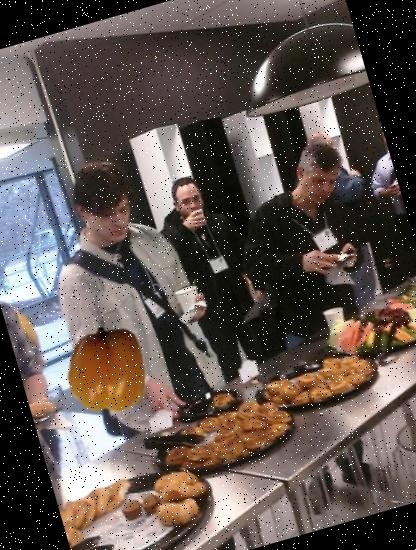Pepper: (53, 317, 158, 422)
